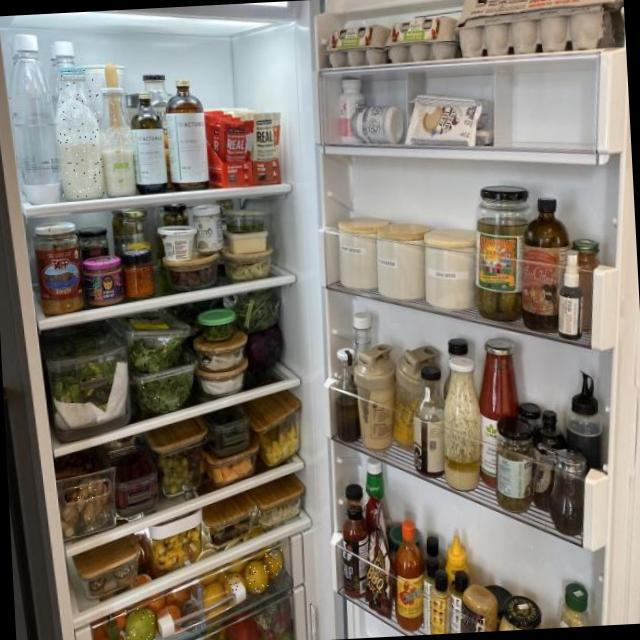Manzana: (124, 607, 156, 640)
